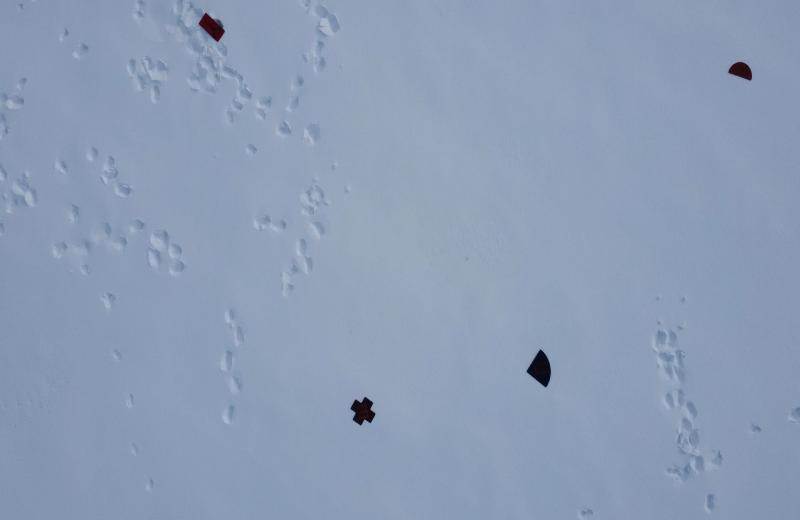Cross: (350, 393, 378, 430)
Quarter Circle: (526, 347, 552, 390)
Rectangle: (196, 11, 226, 48)
Semi Circle: (724, 56, 756, 88)
